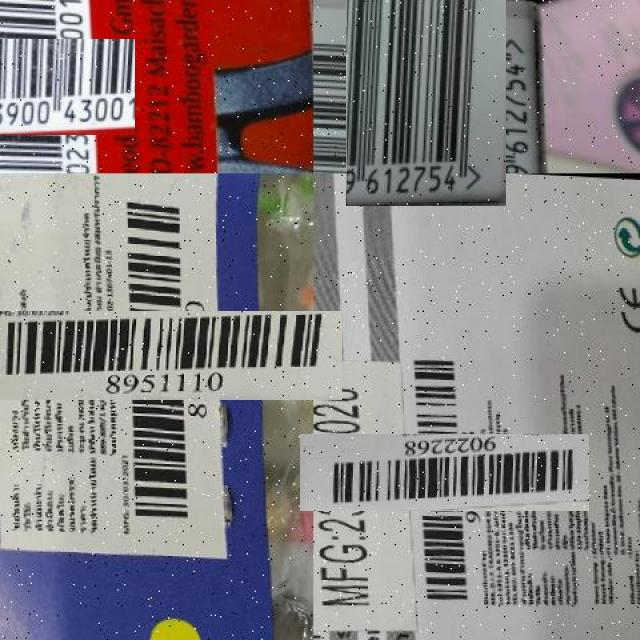Barcode: (58, 246, 278, 465), (329, 0, 523, 191), (353, 380, 536, 564), (0, 20, 116, 155)
